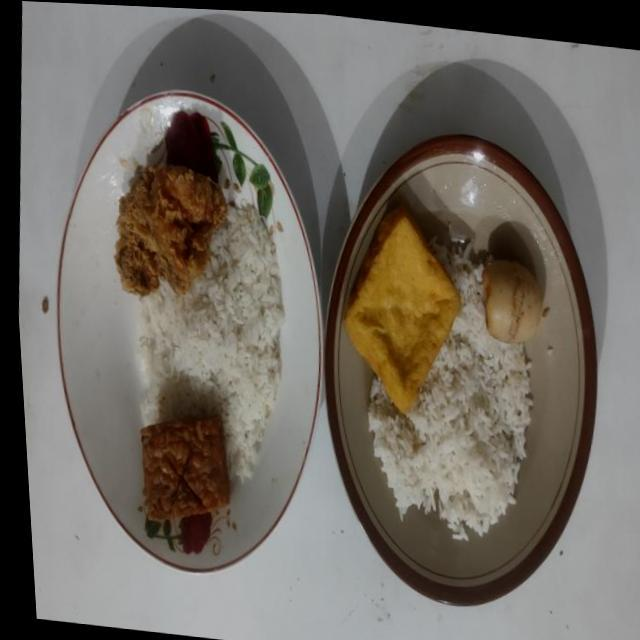nasi_putih: (368, 240, 532, 540), (137, 204, 285, 478)
tahu_goreng: (344, 204, 461, 414)
tempe_goreng: (140, 416, 230, 520)
